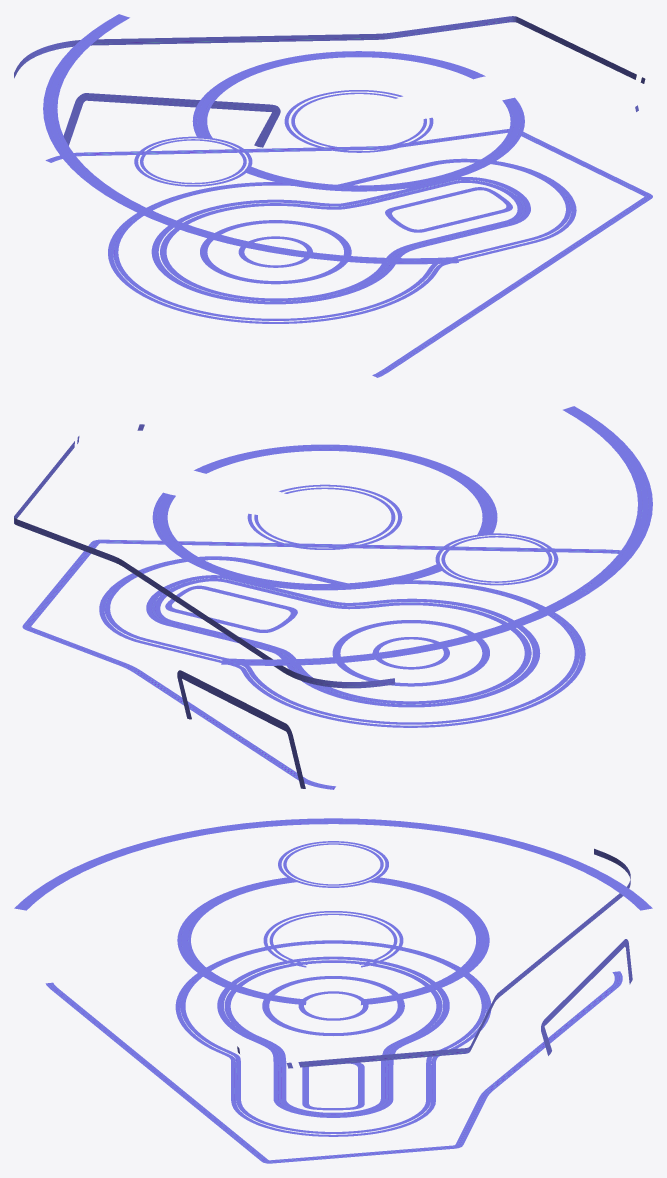
File: MS_cavityline_01.FBX
3 views of the same model, one above another, from view 1: azimuth 30°, elevation 25°; view 2: azimuth 150°, elevation 25°; view 3: azimuth 270°, elevation 25° (orthographic). The views are drawn at different scales.
Visible parts, largest first — view 1: MS_cavityline_01; view 2: MS_cavityline_01; view 3: MS_cavityline_01.
Boxes of the visible parts, box(x1,y1,x2,y2) form: MS_cavityline_01: box(14, 14, 652, 377); MS_cavityline_01: box(14, 406, 652, 789); MS_cavityline_01: box(14, 818, 652, 1163).
Size of the model in its own units: 3084 by 639 by 3442.
5 materials, 5 textured.
